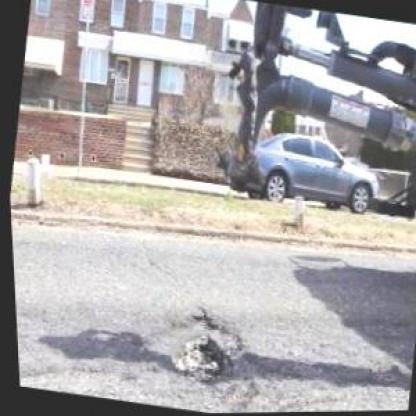pothole: (152, 304, 250, 393)
